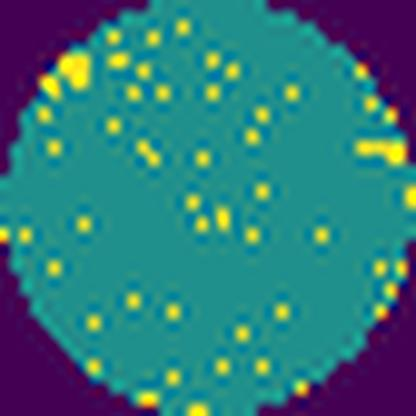Edge-Loc: (352, 136, 412, 167), (60, 51, 92, 89)
